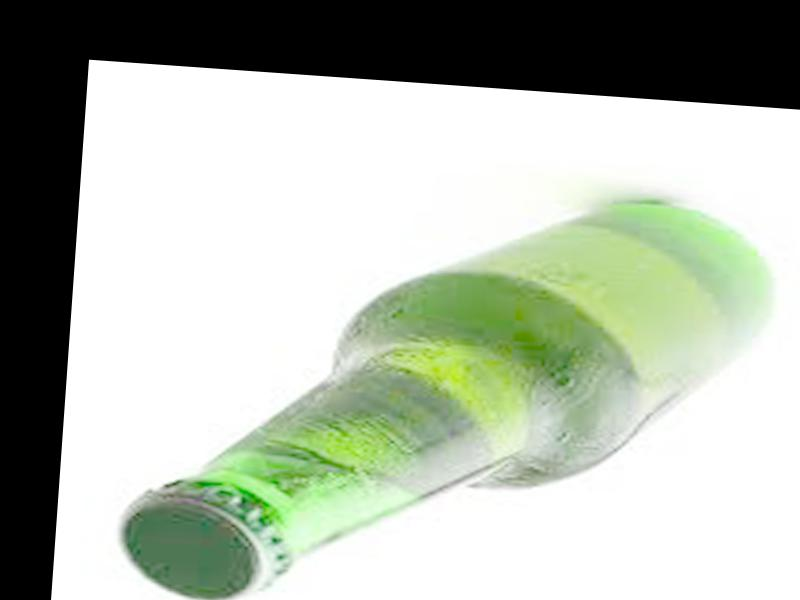Beer: (114, 163, 783, 600)
